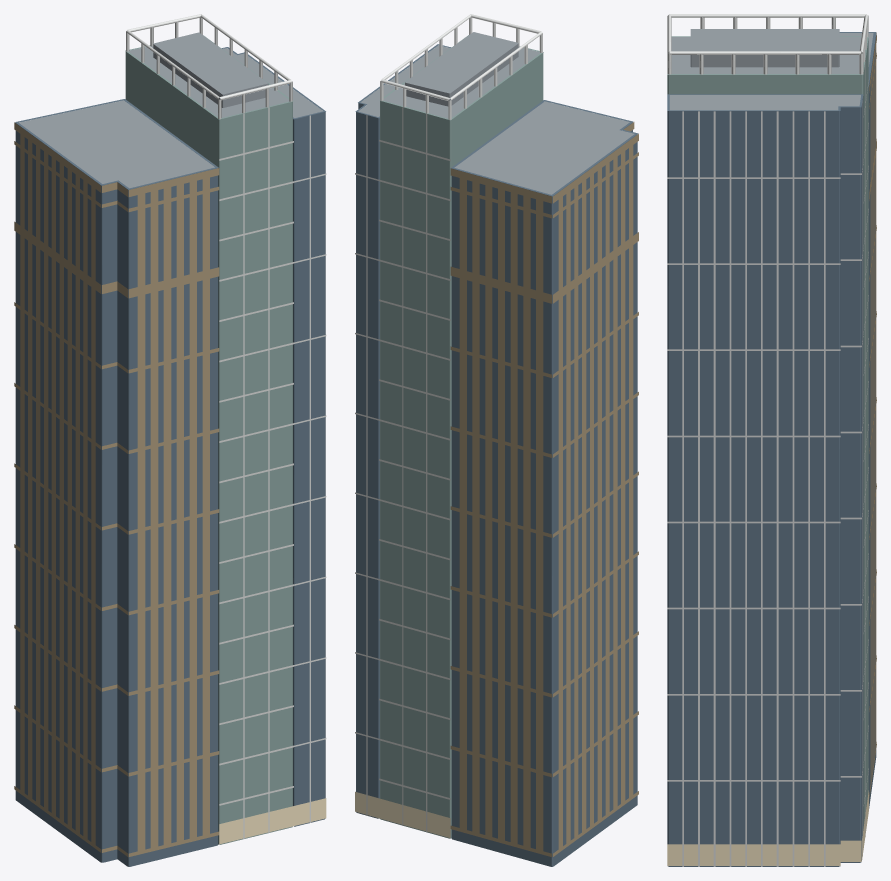
Rendered from tokyo-midtown-tower.glb.
The picture shows the model from 3 angles, left to right: view 1: azimuth 30°, elevation 25°; view 2: azimuth 150°, elevation 25°; view 3: azimuth 270°, elevation 25°; orthographic projection. The views are drawn at different scales.
Visible parts, largest first — view 1: Tokyo Midtown Tower; view 2: Tokyo Midtown Tower; view 3: Tokyo Midtown Tower.
Boxes of the visible parts, x1=… form: Tokyo Midtown Tower: x1=14, y1=14, x2=326, y2=866; Tokyo Midtown Tower: x1=355, y1=14, x2=638, y2=866; Tokyo Midtown Tower: x1=667, y1=14, x2=876, y2=866.
Bounding box in the file's own units: 74.5 × 248 × 59.16.
